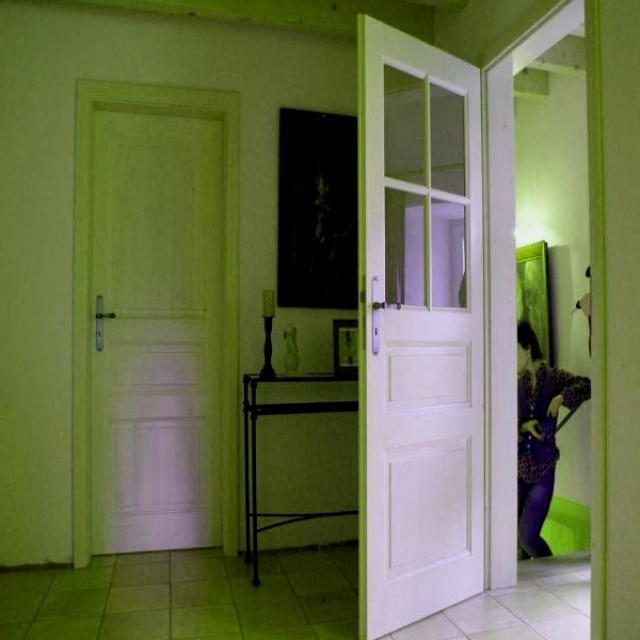door: (348, 10, 497, 640), (68, 66, 250, 581)
